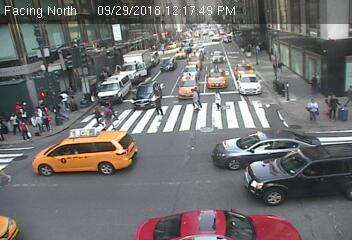car: (245, 142, 352, 205), (135, 205, 302, 240), (33, 127, 138, 175), (212, 122, 320, 168), (116, 50, 151, 81), (93, 76, 132, 102), (132, 82, 162, 110), (237, 74, 264, 97), (1, 212, 23, 240), (176, 75, 198, 99), (206, 66, 228, 90), (234, 61, 255, 76), (181, 63, 199, 76), (184, 54, 202, 67), (211, 51, 227, 65), (158, 56, 175, 69), (146, 52, 159, 65), (175, 47, 187, 57), (223, 33, 232, 44), (212, 33, 222, 42)
